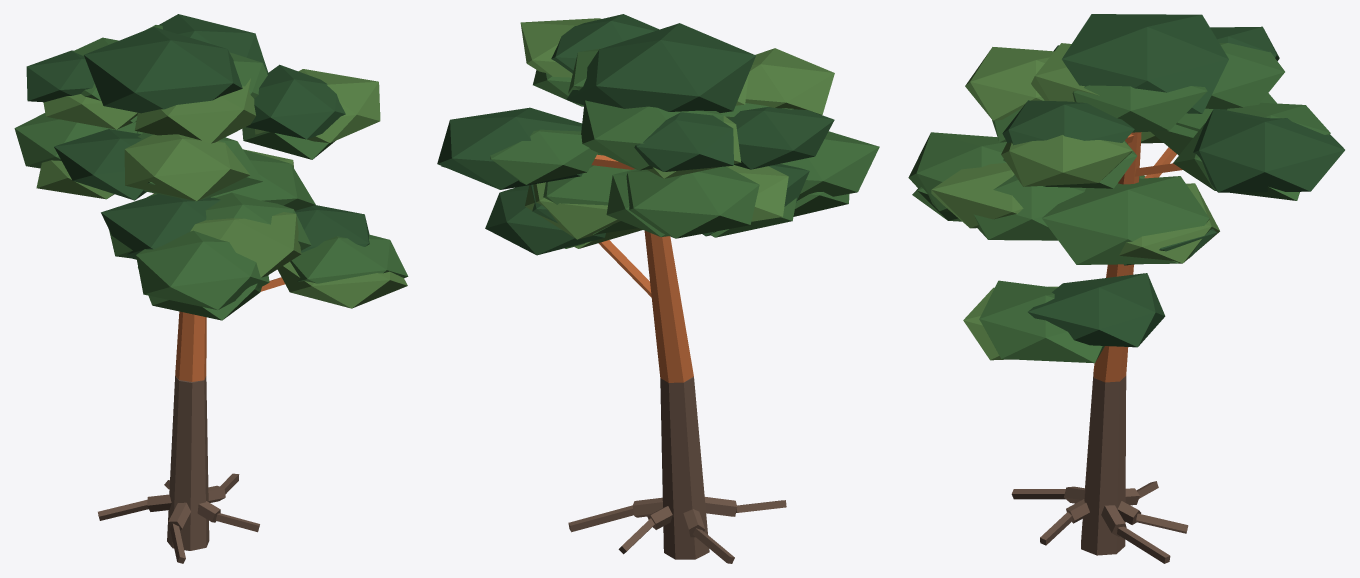
The model's file is tall_2.glb.
The picture shows the model from 3 angles, left to right: view 1: azimuth 30°, elevation 25°; view 2: azimuth 150°, elevation 25°; view 3: azimuth 270°, elevation 25°; orthographic projection. The views are drawn at different scales.
Parts seen in each view (by area): view 1: tall_2; view 2: tall_2; view 3: tall_2.
Boxes of the visible parts, x1=… form: tall_2: x1=14, y1=14, x2=408, y2=563; tall_2: x1=437, y1=14, x2=879, y2=563; tall_2: x1=908, y1=14, x2=1344, y2=563.
Bounding box in the file's own units: 6.65 × 10.37 × 7.88.
